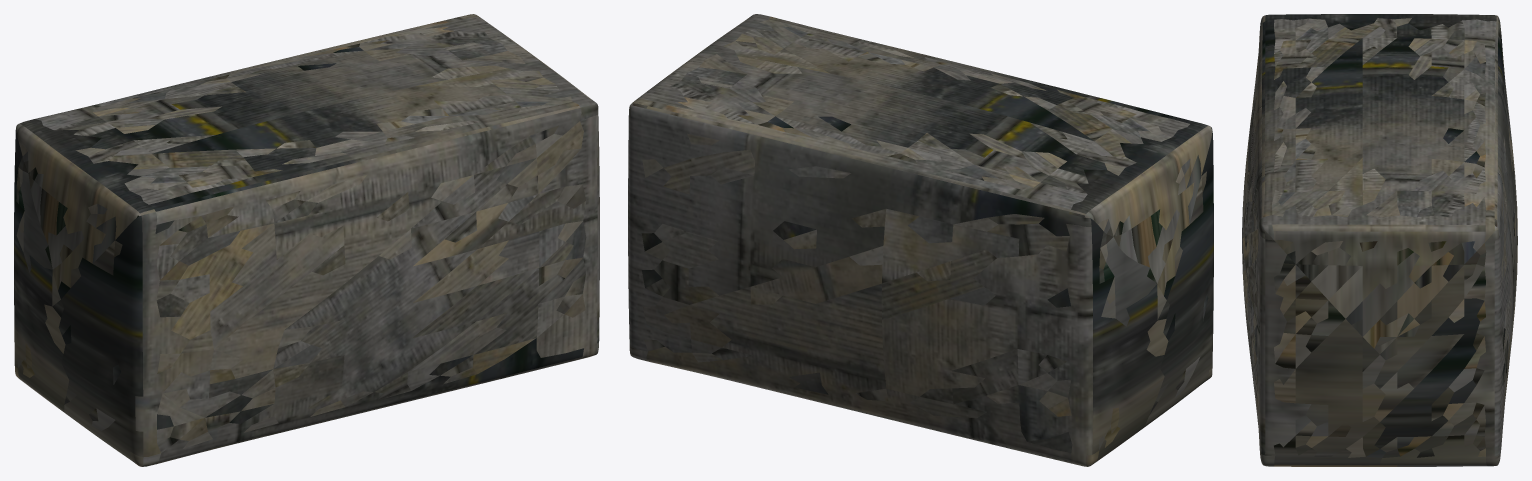
Rendered from inca_megalith_block.glb.
3 views of the same model, side by side, from view 1: azimuth 30°, elevation 25°; view 2: azimuth 150°, elevation 25°; view 3: azimuth 270°, elevation 25° (orthographic). The views are drawn at different scales.
Visible parts, largest first — view 1: Inca_Ashlar_Megalith; view 2: Inca_Ashlar_Megalith; view 3: Inca_Ashlar_Megalith.
Part boxes in pixels (bbox=[...]): Inca_Ashlar_Megalith: bbox=[14, 14, 599, 466]; Inca_Ashlar_Megalith: bbox=[628, 14, 1213, 466]; Inca_Ashlar_Megalith: bbox=[1242, 14, 1517, 466].
Size of the model in its own units: 1.9 by 0.9862 by 0.9737.
Materials: 1 (1 with a texture image).
